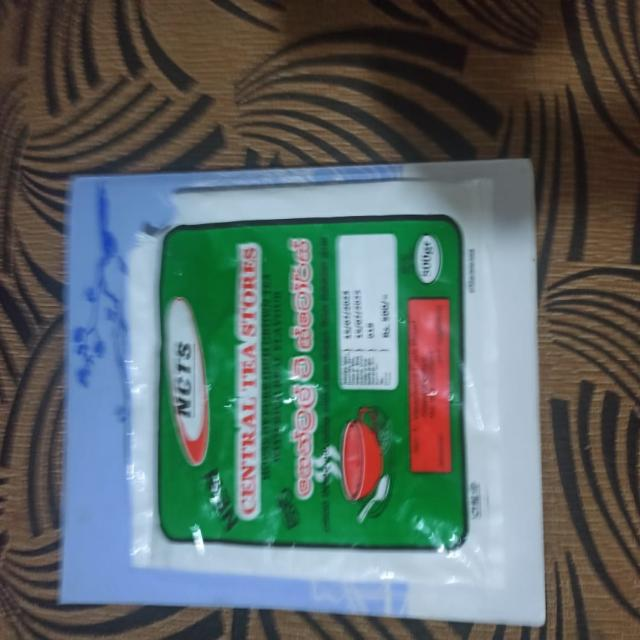Central Tea: (113, 172, 520, 571)
